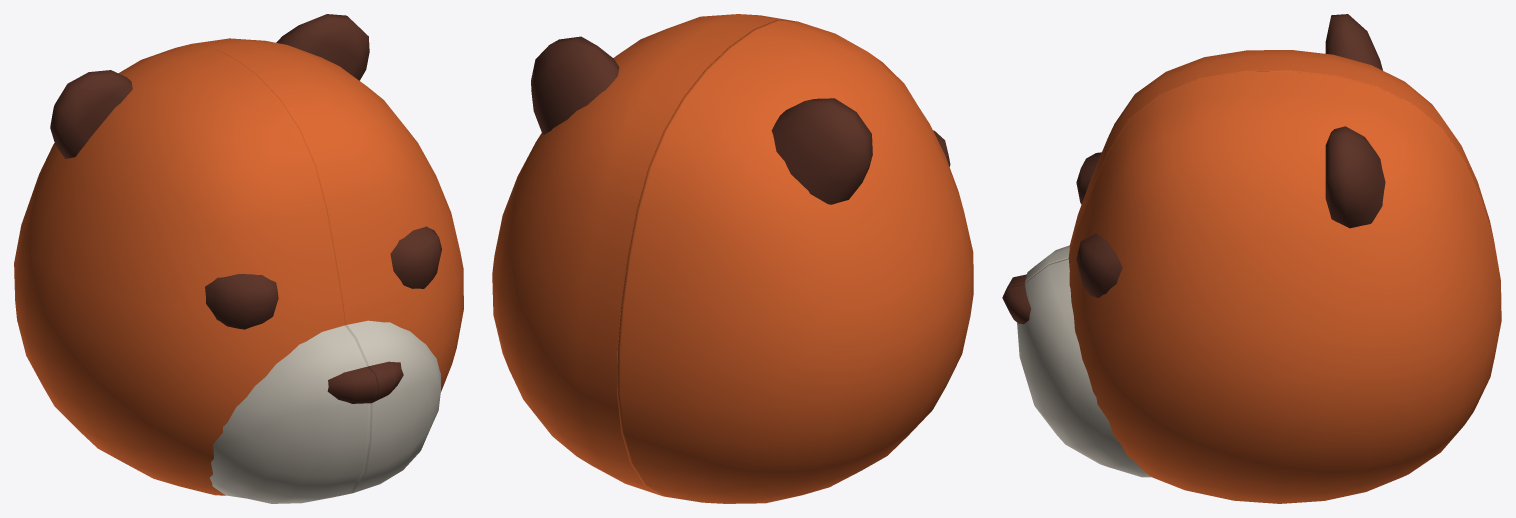
The model's file is SM_Panda_01b.fbx.
3 views of the same model, side by side, from view 1: azimuth 30°, elevation 25°; view 2: azimuth 150°, elevation 25°; view 3: azimuth 270°, elevation 25° (orthographic). The views are drawn at different scales.
Parts seen in each view (by area): view 1: Panda_02, Panda_01; view 2: Panda_02, Panda_01; view 3: Panda_01, Panda_02.
Part boxes in pixels (left/top/right/bottom): Panda_02: left=14, top=43, right=378, bottom=503; Panda_01: left=194, top=14, right=463, bottom=492; Panda_02: left=617, top=20, right=973, bottom=503; Panda_01: left=492, top=14, right=794, bottom=495; Panda_01: left=1002, top=71, right=1501, bottom=503; Panda_02: left=1003, top=14, right=1501, bottom=358.
Size of the model in its own units: 27.61 by 27.6 by 30.72.
